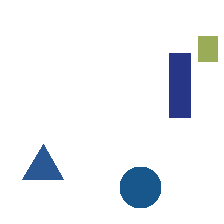circle: (120, 167, 160, 207)
rectangle: (169, 53, 190, 117), (198, 36, 217, 61)
triangle: (22, 144, 63, 179)
